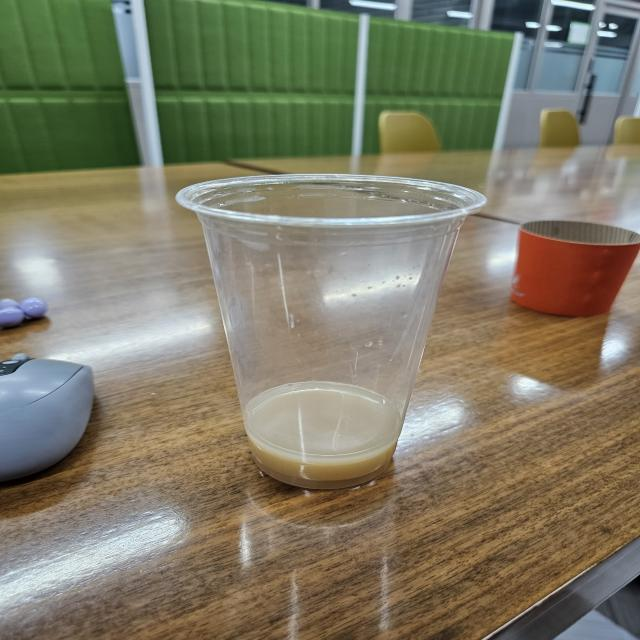cup: (168, 167, 489, 490)
